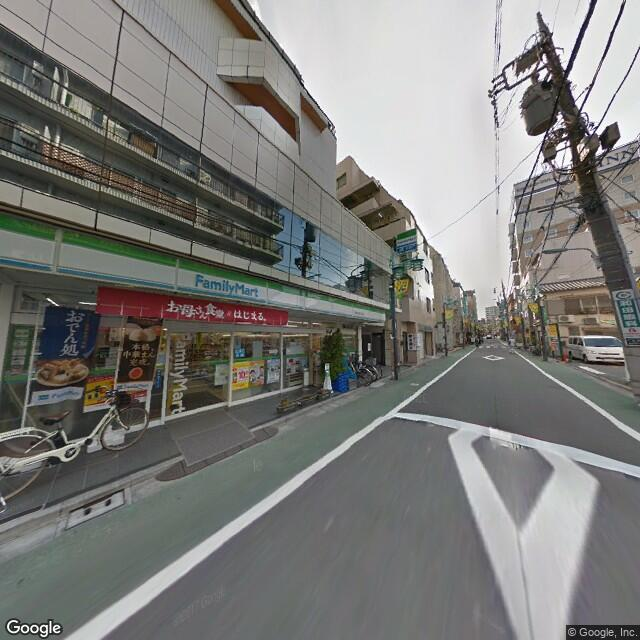family_mart: (1, 209, 384, 326), (189, 269, 261, 302), (396, 224, 423, 252)
